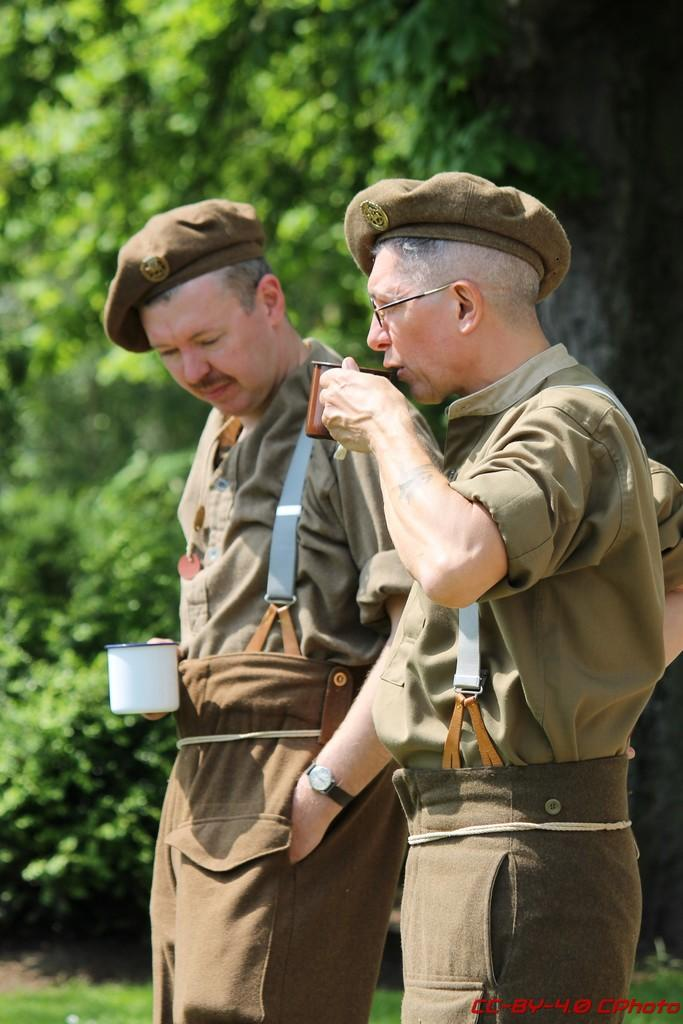Hat: (346, 175, 574, 304), (104, 198, 267, 354)
